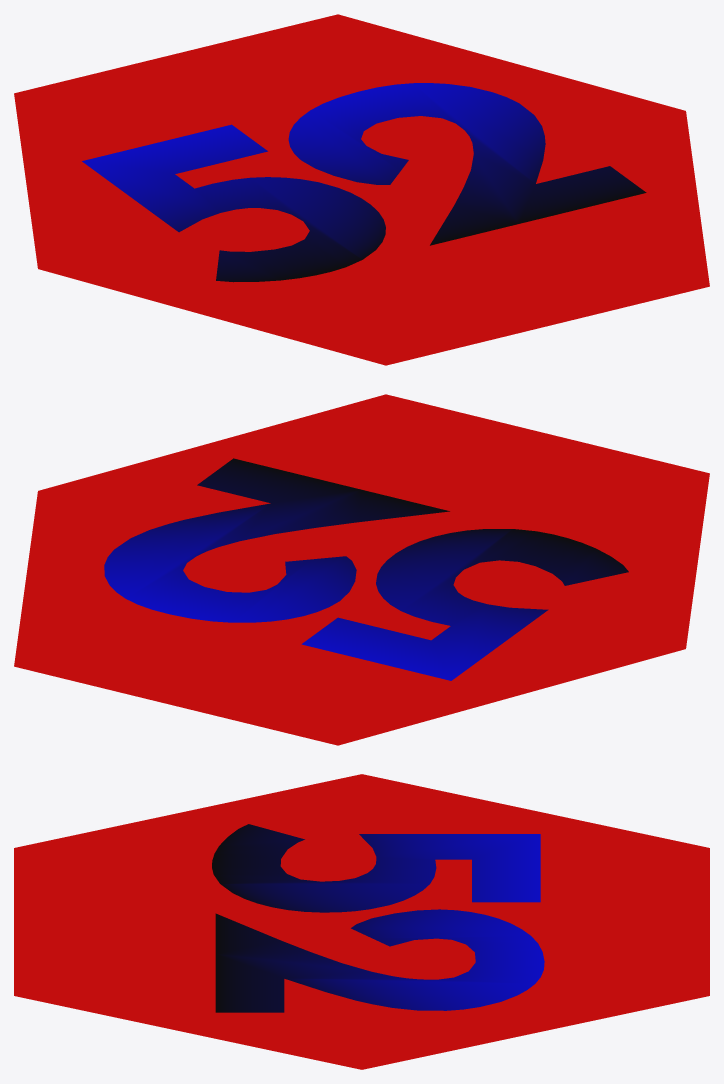
The model's file is SM_Number_52.fbx.
The picture shows the model from 3 angles, top to bottom: view 1: azimuth 30°, elevation 25°; view 2: azimuth 150°, elevation 25°; view 3: azimuth 270°, elevation 25°; orthographic projection. The views are drawn at different scales.
Visible parts, largest first — view 1: FBX_OUT; view 2: FBX_OUT; view 3: FBX_OUT.
Boxes of the visible parts, bbox=[...] form: FBX_OUT: bbox=[14, 14, 709, 365]; FBX_OUT: bbox=[14, 394, 709, 745]; FBX_OUT: bbox=[14, 774, 709, 1069].
Bounding box in the file's own units: 50 × 0.2917 × 49.71.
